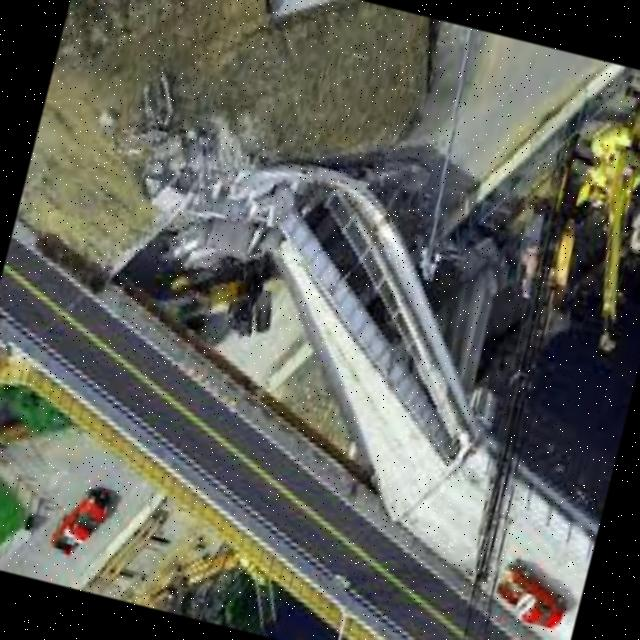bridge collapse: (7, 21, 615, 591)
